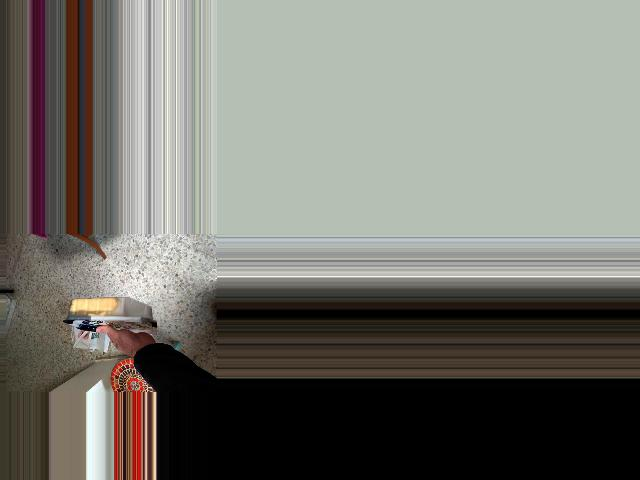cheese: (64, 289, 162, 383)
